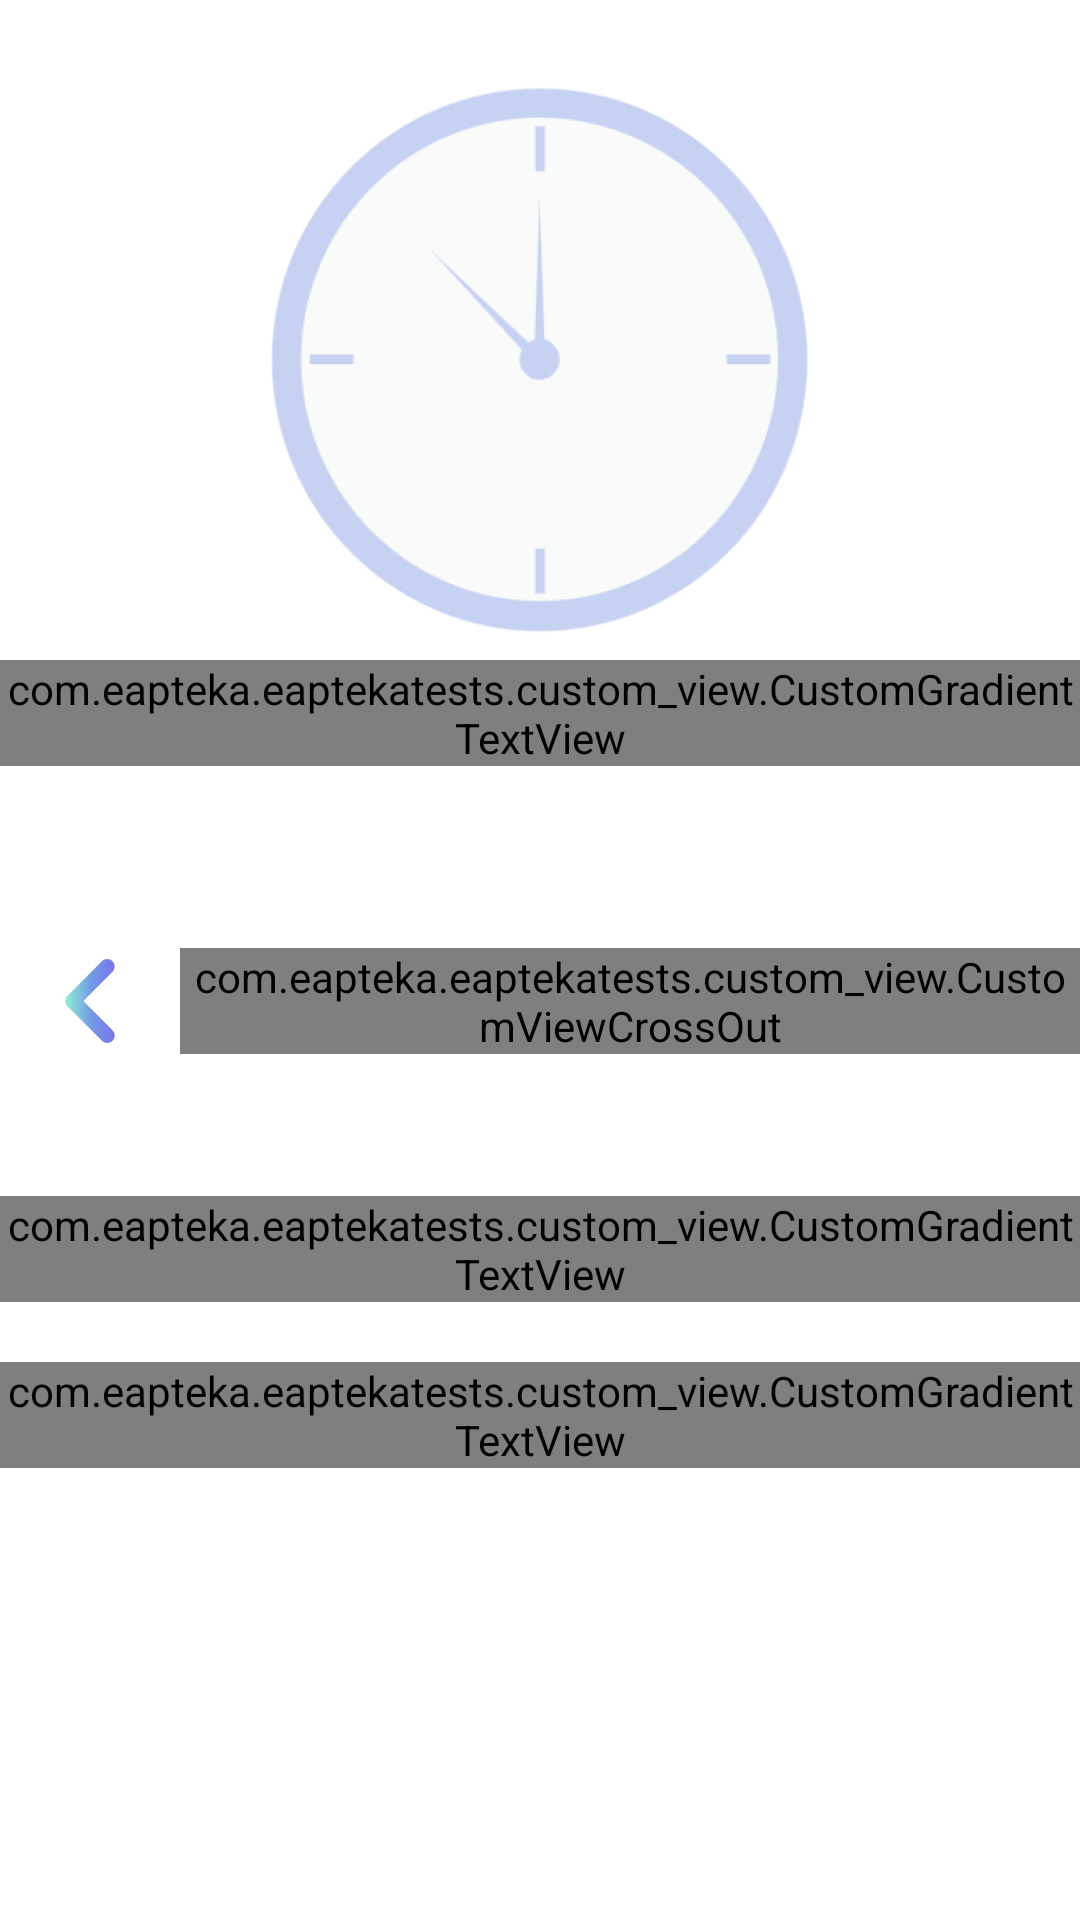

Screen size 1080 x 1920. Icon name, then its center in pixels as (x,y):
arrow: (90,1001)
